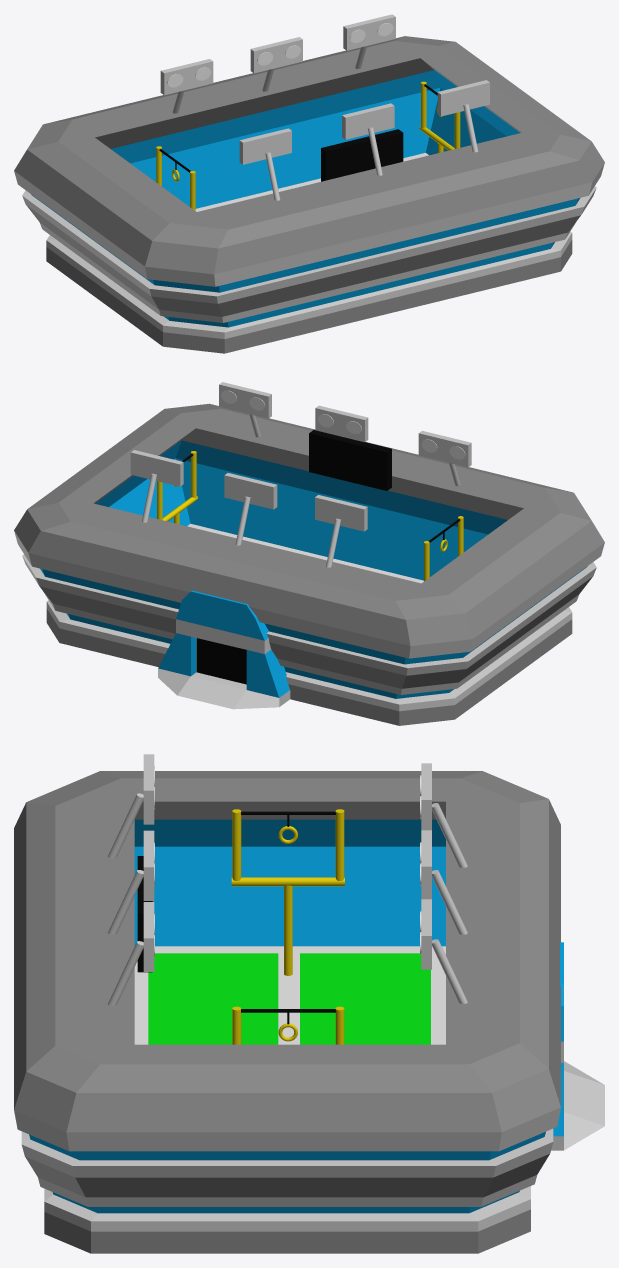
Rendered from footballisticsstadium.fbx.
The picture shows the model from 3 angles, top to bottom: view 1: azimuth 30°, elevation 25°; view 2: azimuth 150°, elevation 25°; view 3: azimuth 270°, elevation 25°; orthographic projection. The views are drawn at different scales.
Parts seen in each view (by area): view 1: Cube; view 2: Cube; view 3: Cube.
Part boxes in pixels (box(x1,y1,x2,y2)): Cube: box(14, 14, 604, 353); Cube: box(14, 382, 604, 725); Cube: box(14, 754, 604, 1253).
Size of the model in its own units: 10175 by 3759 by 7542.
